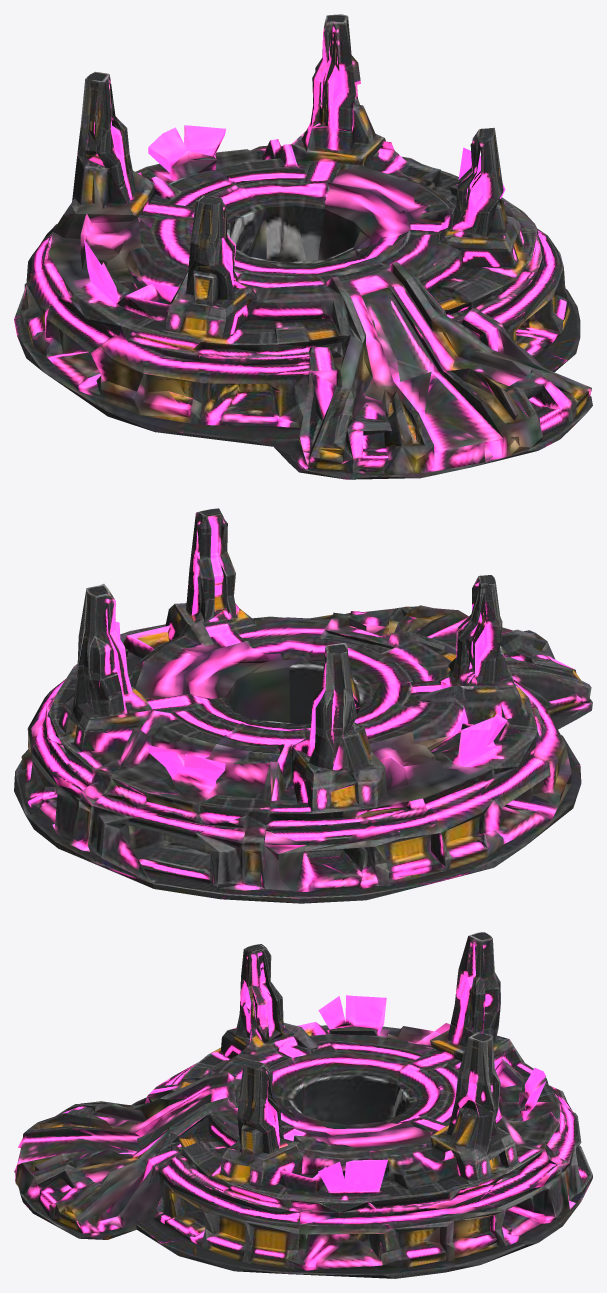
The model's file is warp-base.glb.
3 renders of one model, top to bottom at view 1: azimuth 30°, elevation 25°; view 2: azimuth 150°, elevation 25°; view 3: azimuth 270°, elevation 25°, orthographic. The views are drawn at different scales.
Visible parts, largest first — view 1: Mesh_0; view 2: Mesh_0; view 3: Mesh_0.
Part boxes in pixels (<box>): Mesh_0: <box>14,14,592,479</box>; Mesh_0: <box>14,508,592,903</box>; Mesh_0: <box>14,932,592,1278</box>.
Bounding box in the file's own units: 13.51 × 6 × 16.32.
Materials: 1 (1 with a texture image).
